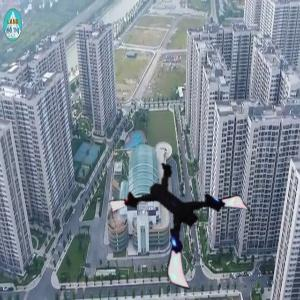drone: (124, 153, 249, 278)
